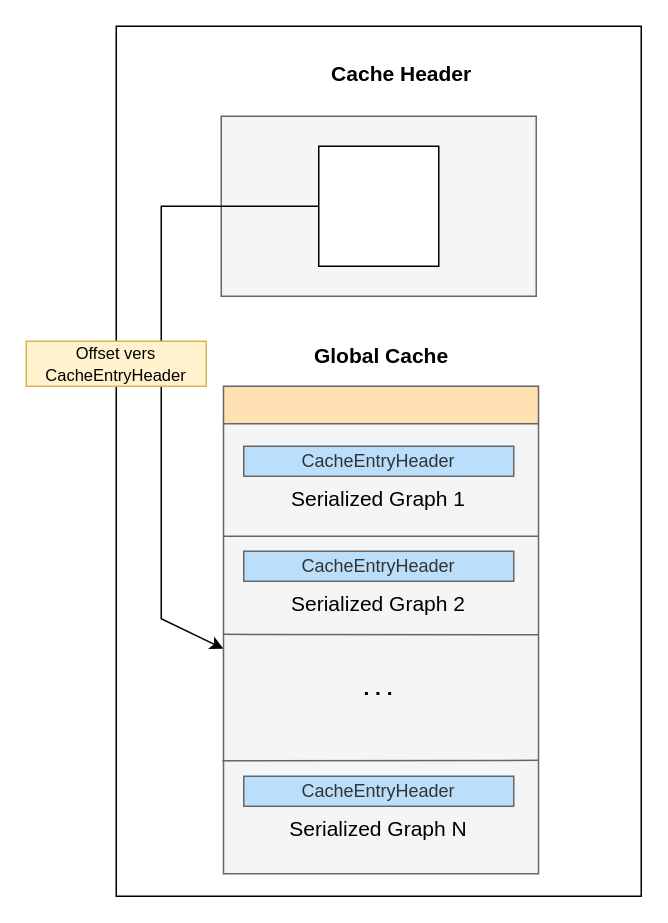
Image size: 668x923. Some labels were removed from this diagram. Each missing label, with the box of its shape:
CacheHeader: (222, 385, 538, 424)
Keys (SHA-256): (317, 145, 439, 266)
